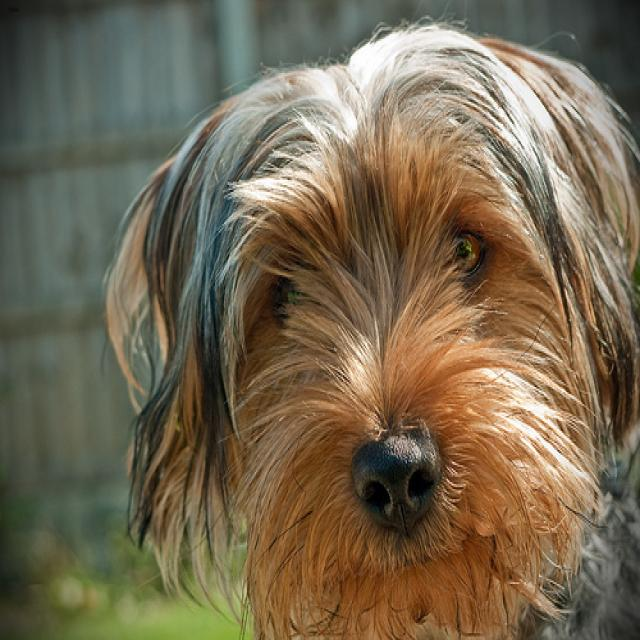dog-yorkshire_terrier: (96, 12, 637, 637)
